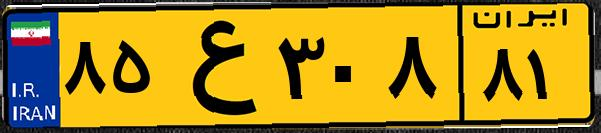0: (330, 28, 385, 110)
1: (525, 38, 570, 115)
3: (270, 28, 330, 110)
5: (110, 28, 158, 98)
8: (385, 28, 445, 110), (57, 26, 110, 100), (475, 38, 525, 113)
ع: (158, 12, 270, 120)
